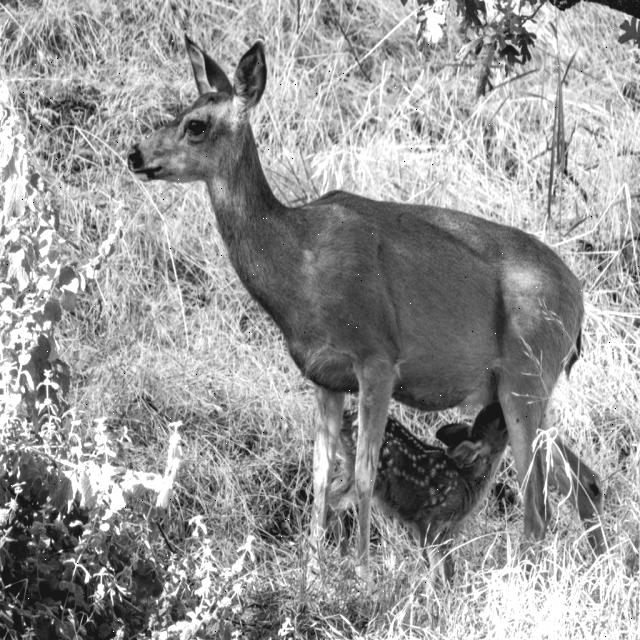deer: (111, 5, 291, 194)
